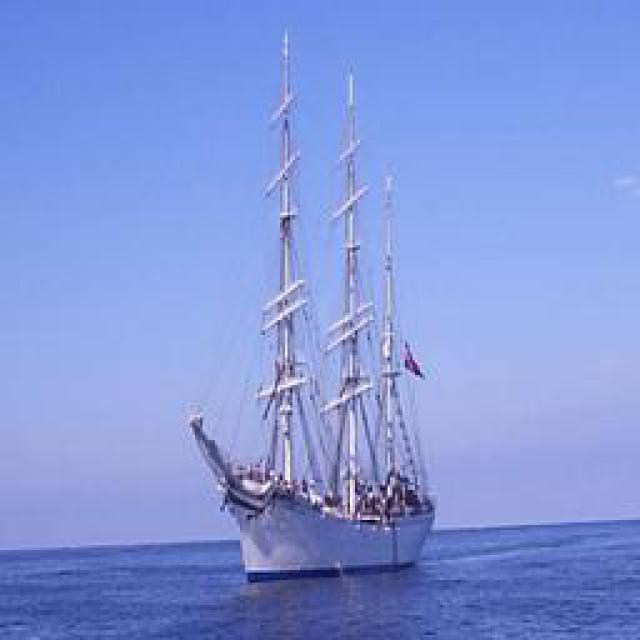Ship: (192, 27, 440, 580)
